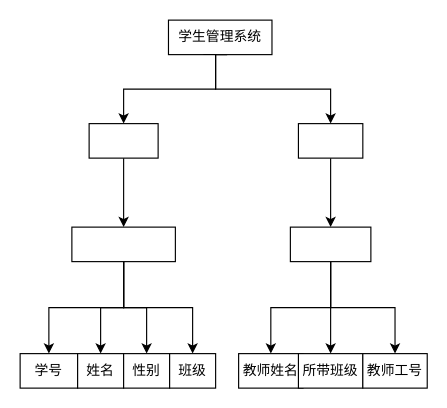
Image size: 447x408. Some labels were removed from this diagram. Here are the shapes that lost their labels. From the top down, the centre of each, then its label:
At pixel 123 140: "教师端".
At pixel 330 140: "管理员".
At pixel 123 244: "学生信息管理".
At pixel 330 244: "管理教师".
